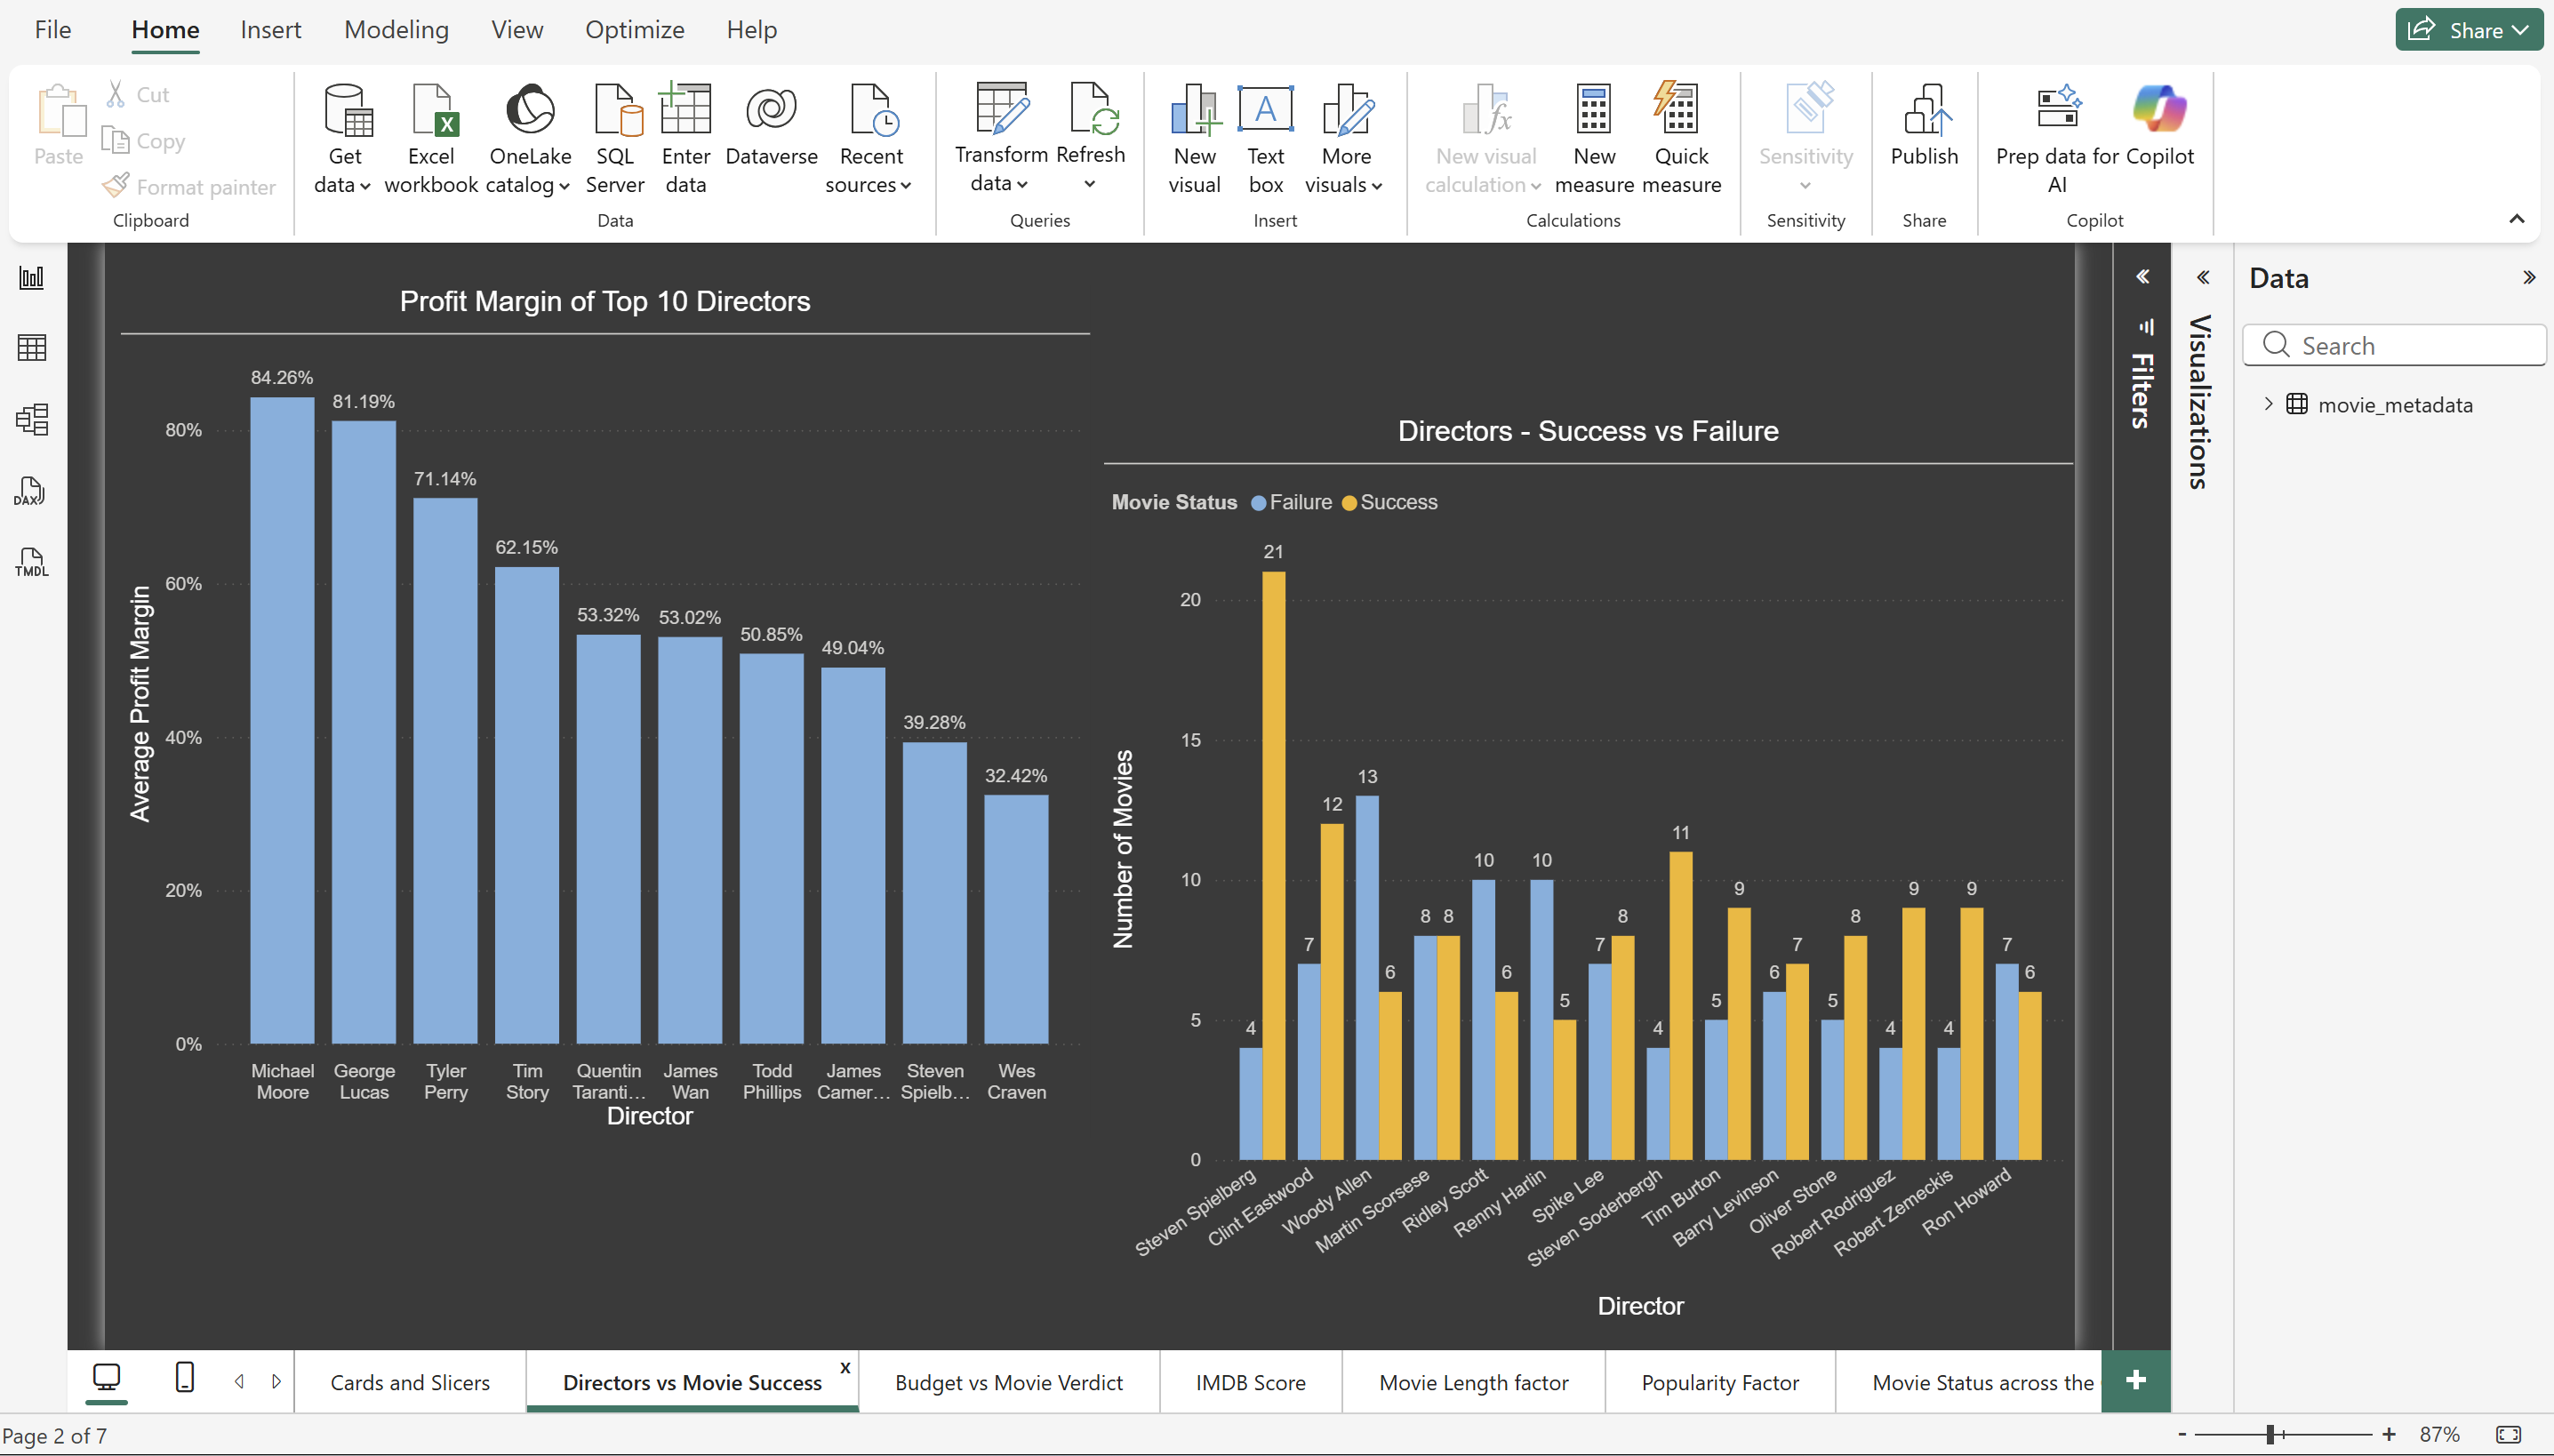

Layout of this report page (visuals, bound fields, positions):
{"tool":"powerbi","page":{"name":"Directors vs Movie Success","canvas":[1280,720],"ordinal":1},"visuals":[{"type":"clusteredColumnChart","title":"Profit Margin of Top 10 Directors","fields":{"Category":["movie_metadata.director_name"],"Y":["movie_metadata.profit_margin"]},"box":[10,28,630,554],"z":0},{"type":"clusteredColumnChart","title":"Directors - Success vs Failure","fields":{"Category":["movie_metadata.director_name"],"Y":["movie_metadata.movie_title"],"Series":["movie_metadata.status"]},"box":[650,112,630,592],"z":1000}]}

Visuals, with their boxes on the page's 1280x720 design canvas (x1, y1, x2, y2). These are canvas units, not pixel positions in the 2554x1456 screenshot, which may show the page scaled, cropped or inside an application window:
"Profit Margin of Top 10 Directors" clusteredColumnChart: [10,28,640,582]
"Directors - Success vs Failure" clusteredColumnChart: [650,112,1280,704]
